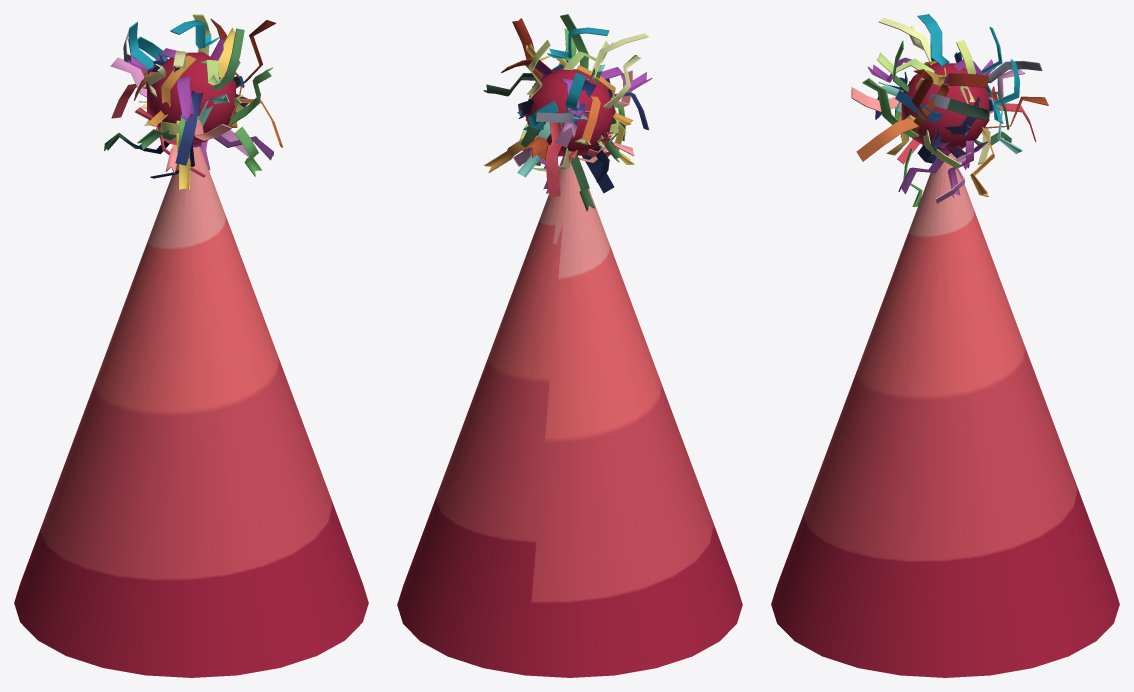
File: PartyHat.FBX
The picture shows the model from 3 angles, left to right: view 1: azimuth 30°, elevation 25°; view 2: azimuth 150°, elevation 25°; view 3: azimuth 270°, elevation 25°; orthographic projection. The views are drawn at different scales.
Visible parts, largest first — view 1: PartyHat; view 2: PartyHat; view 3: PartyHat.
Boxes of the visible parts, x1=… form: PartyHat: x1=14, y1=14, x2=368, y2=677; PartyHat: x1=397, y1=14, x2=742, y2=677; PartyHat: x1=771, y1=14, x2=1119, y2=677.
Bounding box in the file's own units: 98.05 × 98.05 × 179.
Materials: 1 (1 with a texture image).
